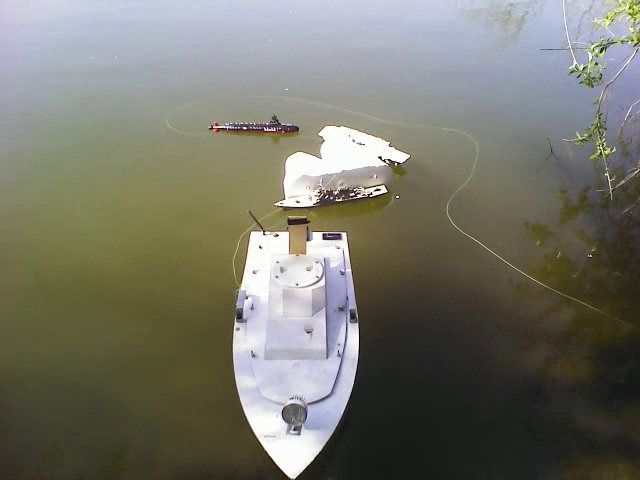boat: (233, 220, 364, 470)
submarine: (204, 114, 299, 137)
warship: (276, 181, 402, 212)
